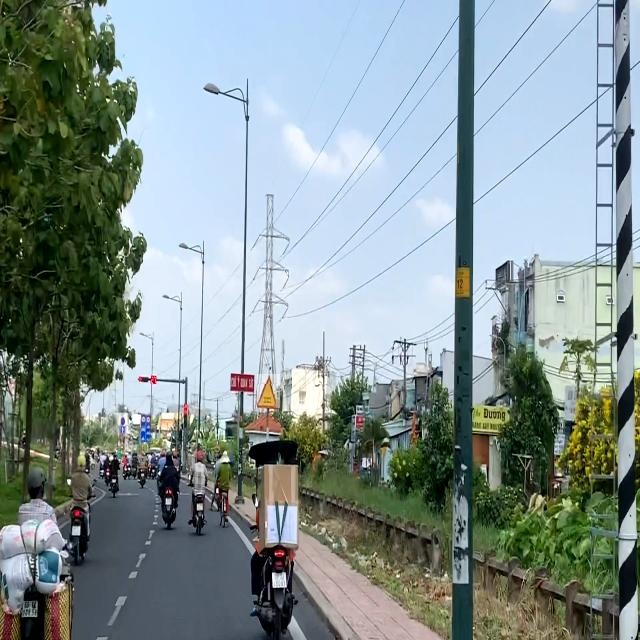bien_nguy_hiem: (257, 374, 280, 408)
